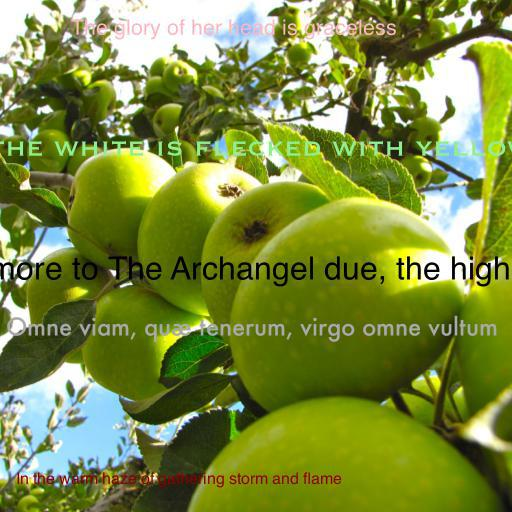Copperplate: (0, 138, 512, 156)
Futura: (6, 315, 498, 342)
Impact: (0, 256, 512, 287), (71, 19, 397, 40)
SF Pro: (16, 472, 342, 488)
